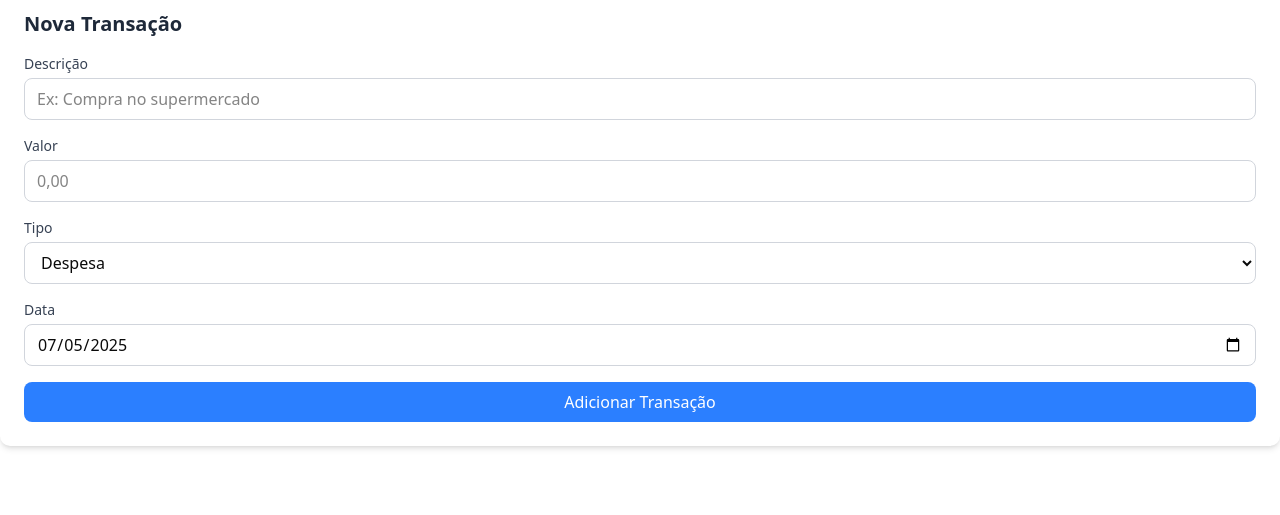
Test: TransactionForm › shows validation error for empty description
The width and height of the screenshot is (1280, 515).
Click the button "Adicionar Transação": point(640, 402) x1=24 y1=382 x2=1256 y2=422
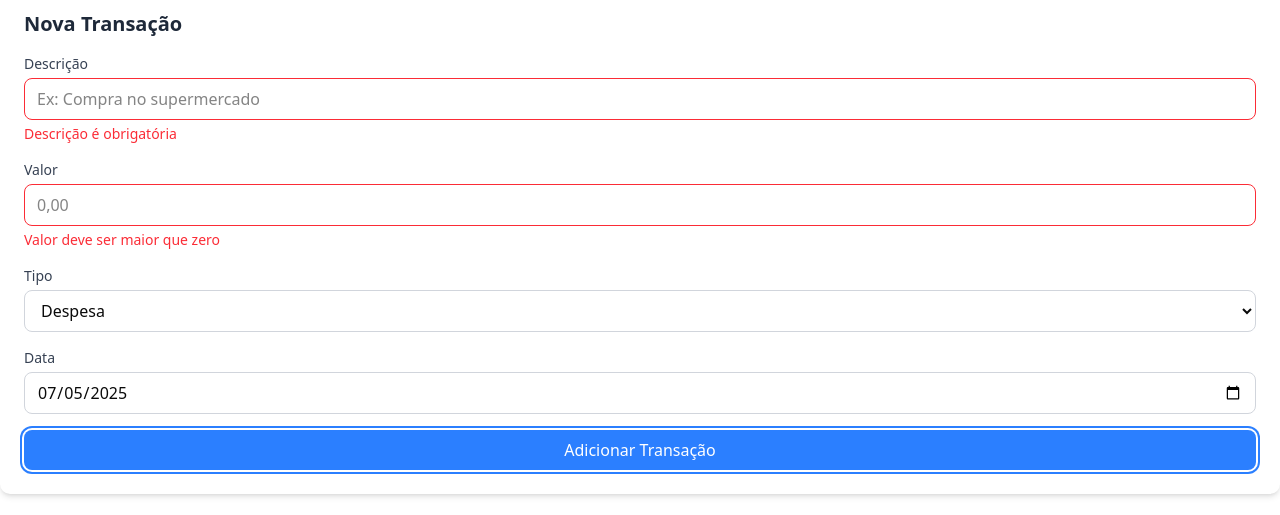
Now the text "Descrição é obrigatória" is shown, box x1=24 y1=124 x2=177 y2=143
